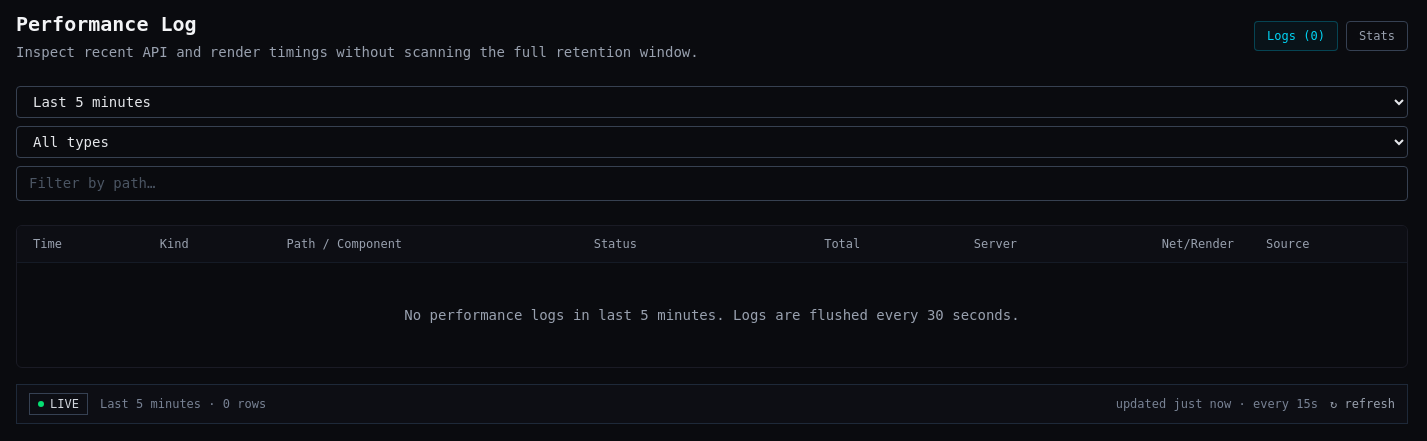
PerfLogPage statistics emphasis › leads with p95 and demotes the average to the sub-line
The image size is (1427, 441).
What coordinates should you click on to do the following:
click the tab "Stats"
I would click on:
 (1377, 36)
Its box is x1=1346 y1=21 x2=1408 y2=51.
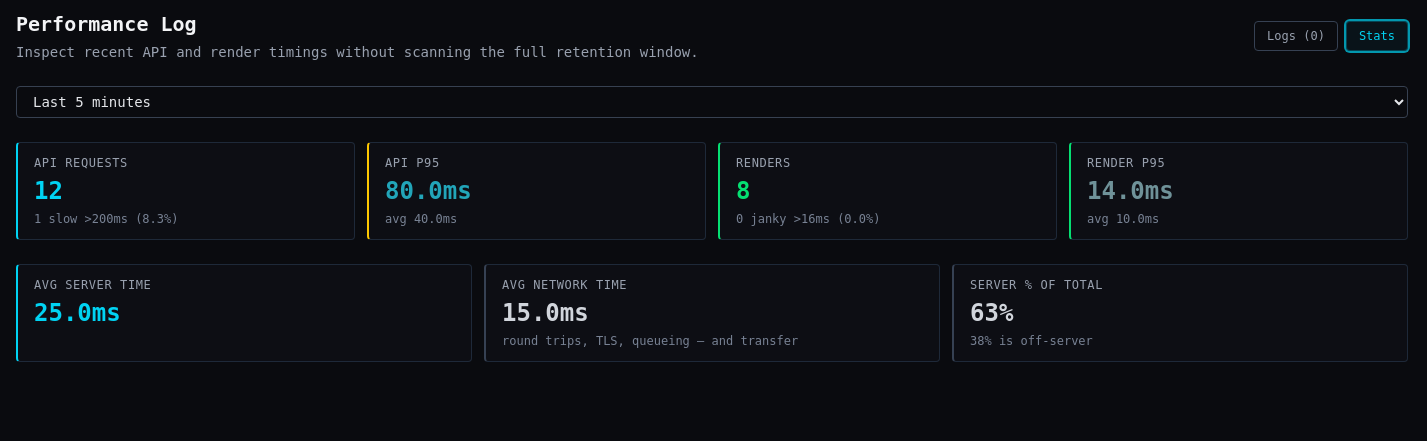
Now the text "API p95" is shown, box x1=385 y1=156 x2=440 y2=170
Now the text "Render p95" is shown, box x1=1087 y1=156 x2=1165 y2=170
Now the text "avg 40.0ms" is shown, box x1=385 y1=212 x2=457 y2=226
